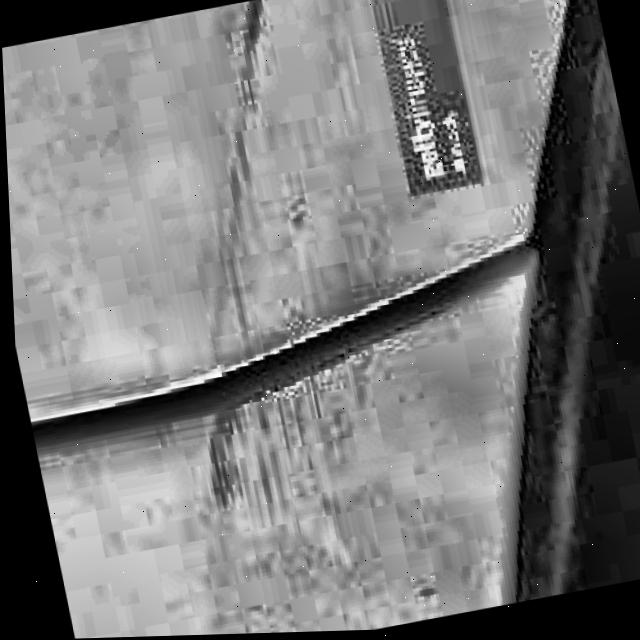door_scratch: (111, 0, 385, 513)
